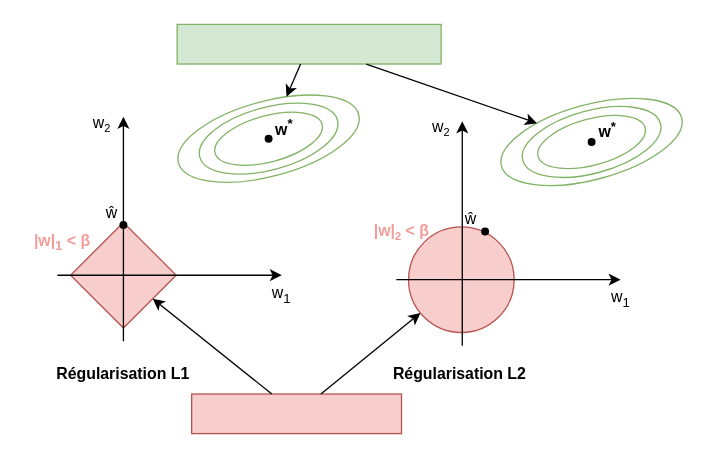
This 714x457 diagram has some shape labels left out. The shapes that lost their labels are listed below. From the top down, each one's centre as x and y in pixels, then its label:
the point at 308,43: Courbes de niveau du loss en fonction de w 1 et w 2
the point at 296,413: Espace des solutions réalisables
